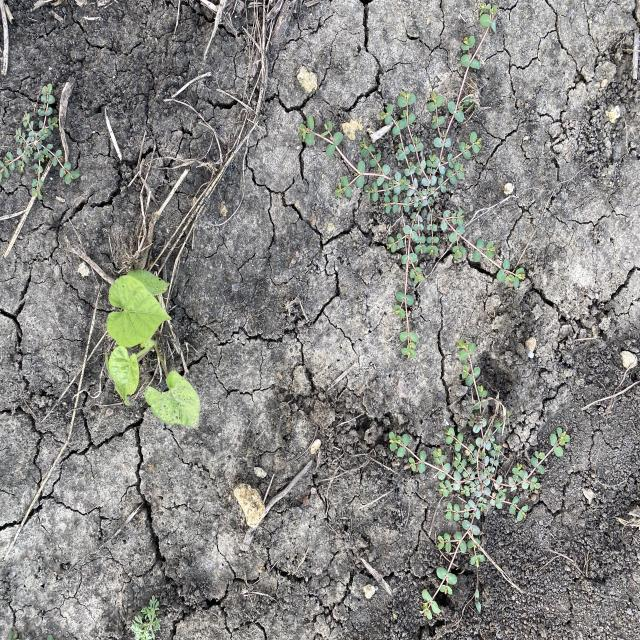MorningGlory: (104, 266, 202, 434)
Ragweed: (128, 593, 162, 639)
SpottedSpurge: (295, 3, 526, 363), (387, 335, 573, 623), (2, 78, 82, 203)
